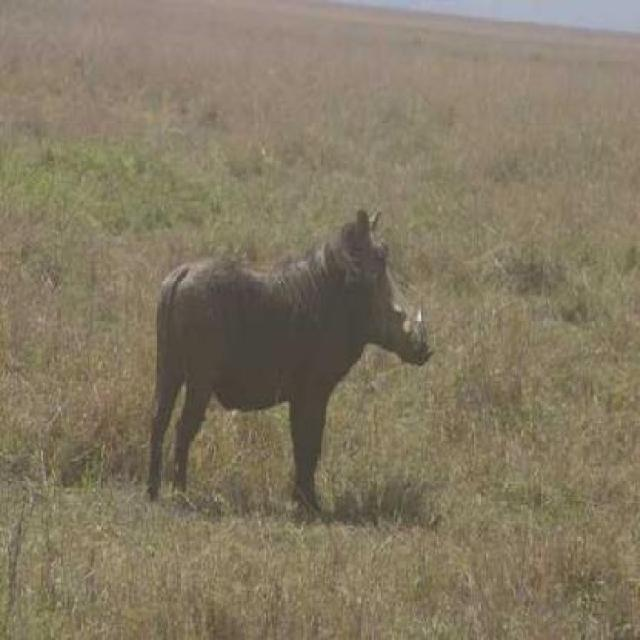Boar: (114, 174, 458, 534)
